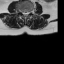CCS_normal: (24, 9, 26, 18)
LFS_normal: (28, 8, 30, 16)
LLS_normal: (26, 10, 28, 17)
RFS_normal: (20, 8, 22, 14)
RLS_normal: (22, 9, 24, 17)
